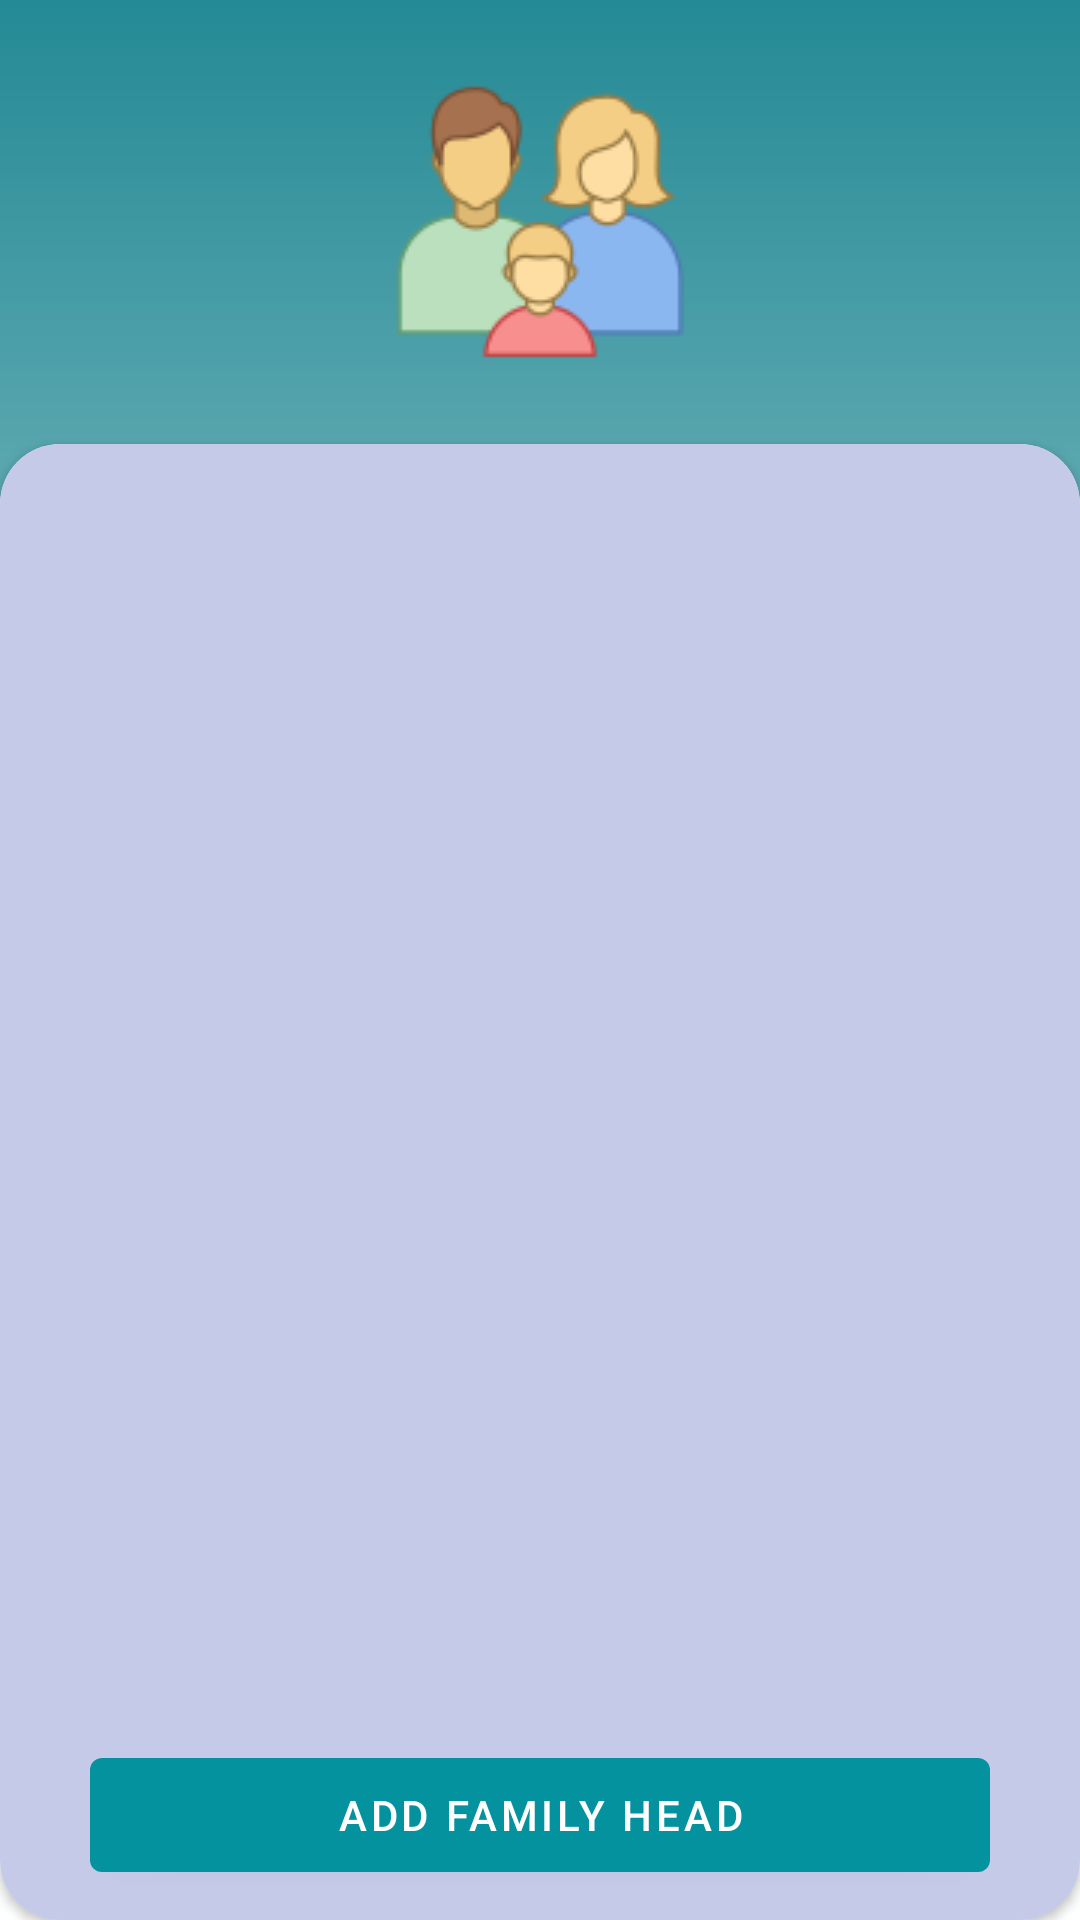

Named icons in this screenshot (1080px×1920px) and their centers, (x,y):
fam: (540,222)
